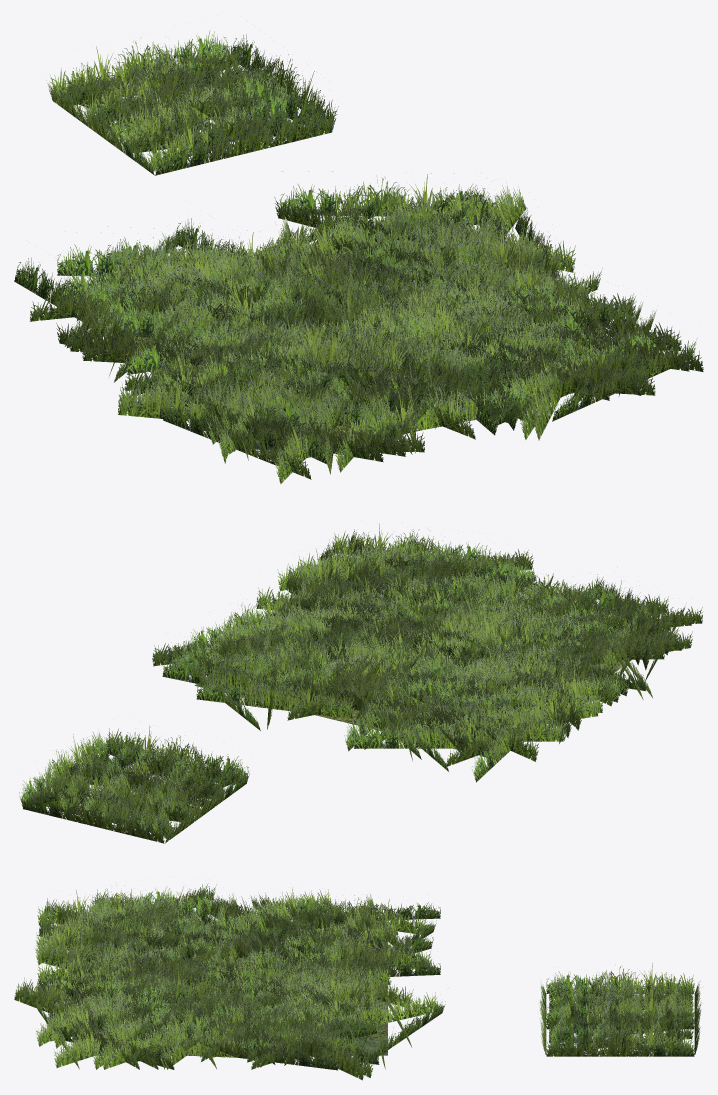
File: grass_claster__downoad__like_please.glb
3 views of the same model, one above another, from view 1: azimuth 30°, elevation 25°; view 2: azimuth 150°, elevation 25°; view 3: azimuth 270°, elevation 25° (orthographic). The views are drawn at different scales.
Size of what is drawn, in the model's own units: 3.98 by 0.2832 by 6.35.
Materials: 2 (2 with a texture image).
